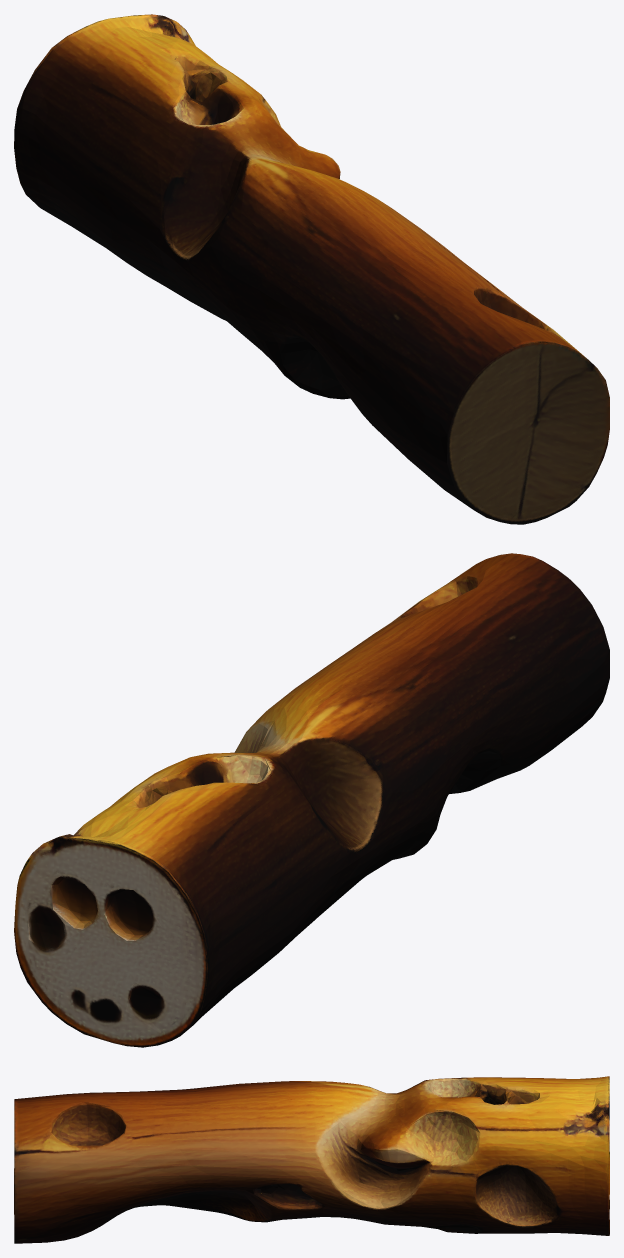
The model's file is wooden-rainstick-rustic.jpeg.glb.
3 renders of one model, top to bottom at view 1: azimuth 30°, elevation 25°; view 2: azimuth 150°, elevation 25°; view 3: azimuth 270°, elevation 25°, orthographic. The views are drawn at different scales.
Visible parts, largest first — view 1: world; view 2: world; view 3: world.
Part boxes in pixels (<box>): world: <box>14,14,609,524</box>; world: <box>14,553,609,1047</box>; world: <box>14,1076,609,1243</box>.
Bounding box in the file's own units: 0.2646 × 0.2733 × 1.
1 material, 1 textured.
